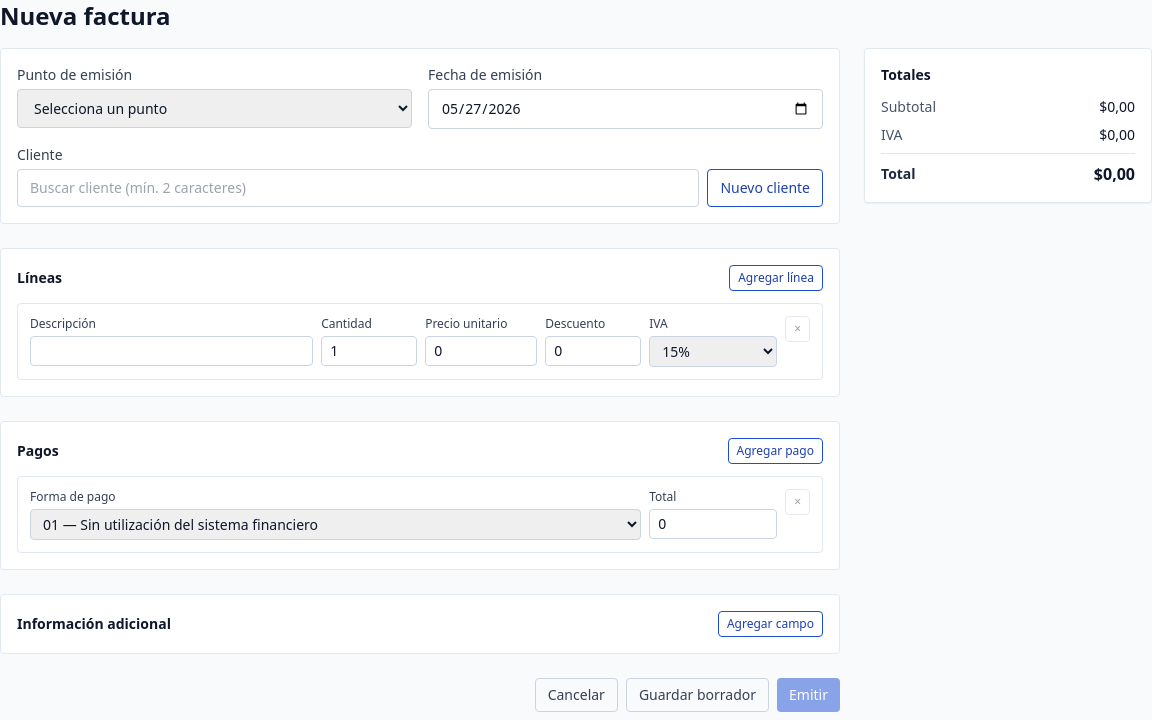
<InvoiceForm /> autosave + new customer dialog › NewCustomerDialog: creating a customer selects it in the form
The width and height of the screenshot is (1152, 720).
Expected: the element with test id "line-row-0" is shown, [17,303,823,380]
Click the button "Nuevo cliente" at (765, 188), box [707,169,823,207]
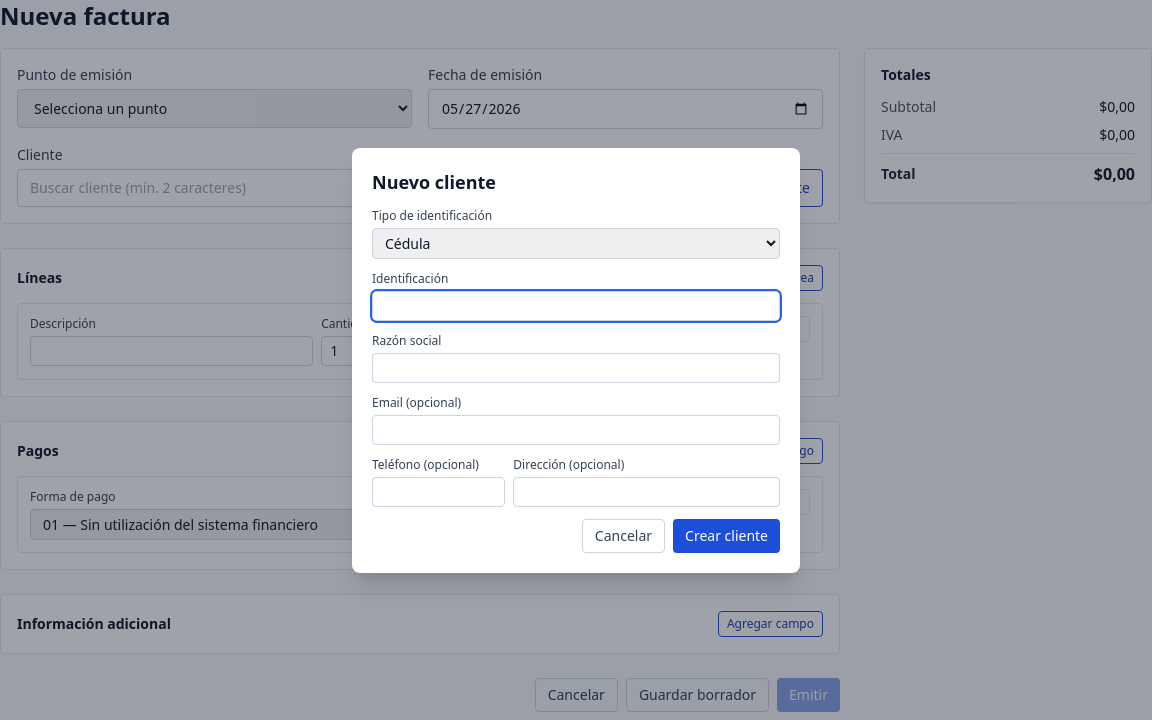
Result: the dialog with test id "new-customer-dialog" is shown
Type "1710034065" into the field labelled "Identificación" at (576, 306), box [372,290,780,320]
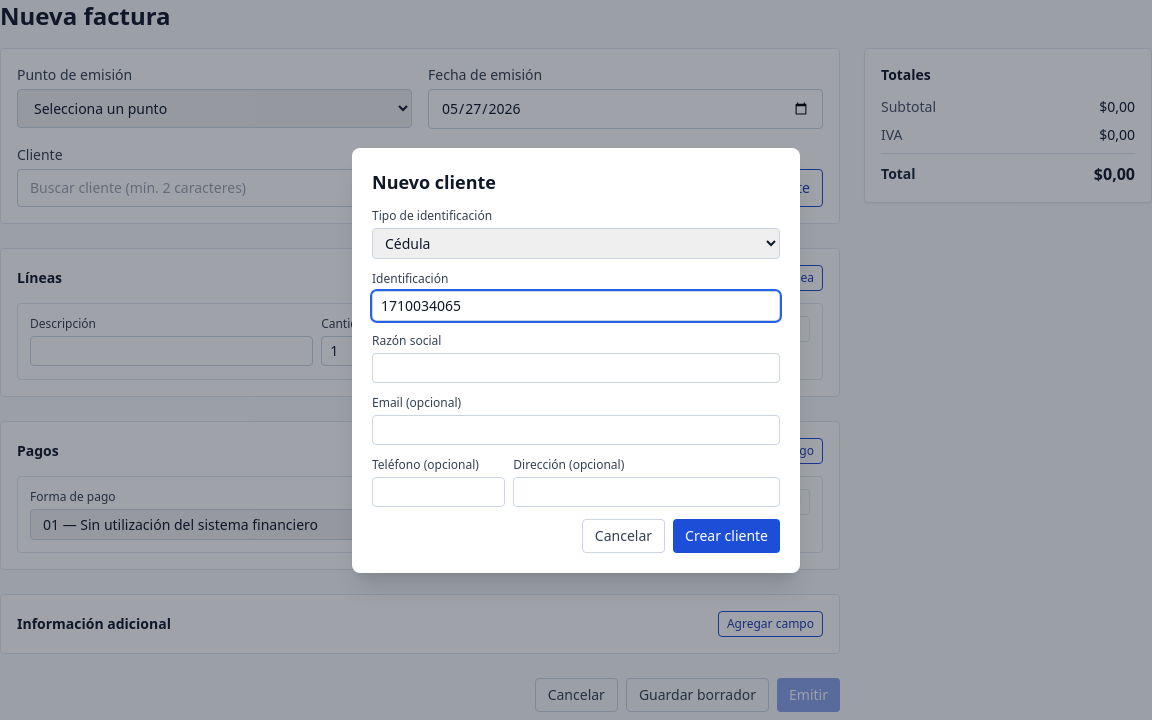
Type "Otra Persona" into the field labelled "Razón social" at (576, 368), box [372,352,780,382]
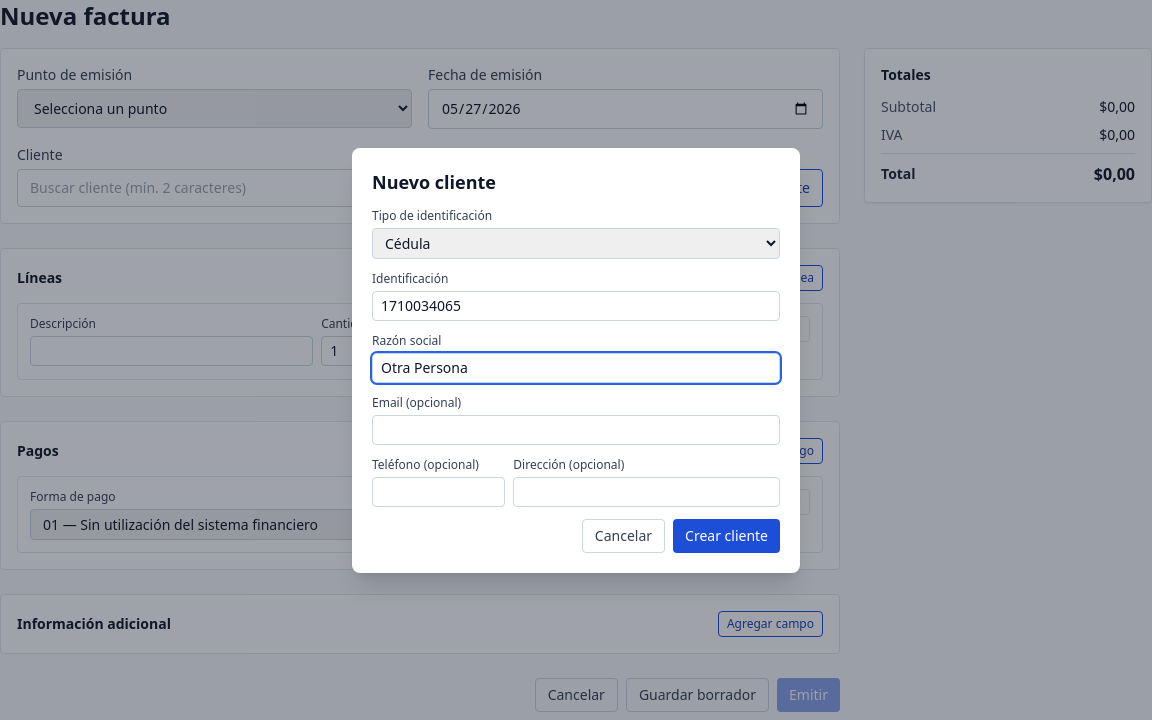
Click the button with test id "new-customer-submit" at (726, 536), box [673,518,780,552]
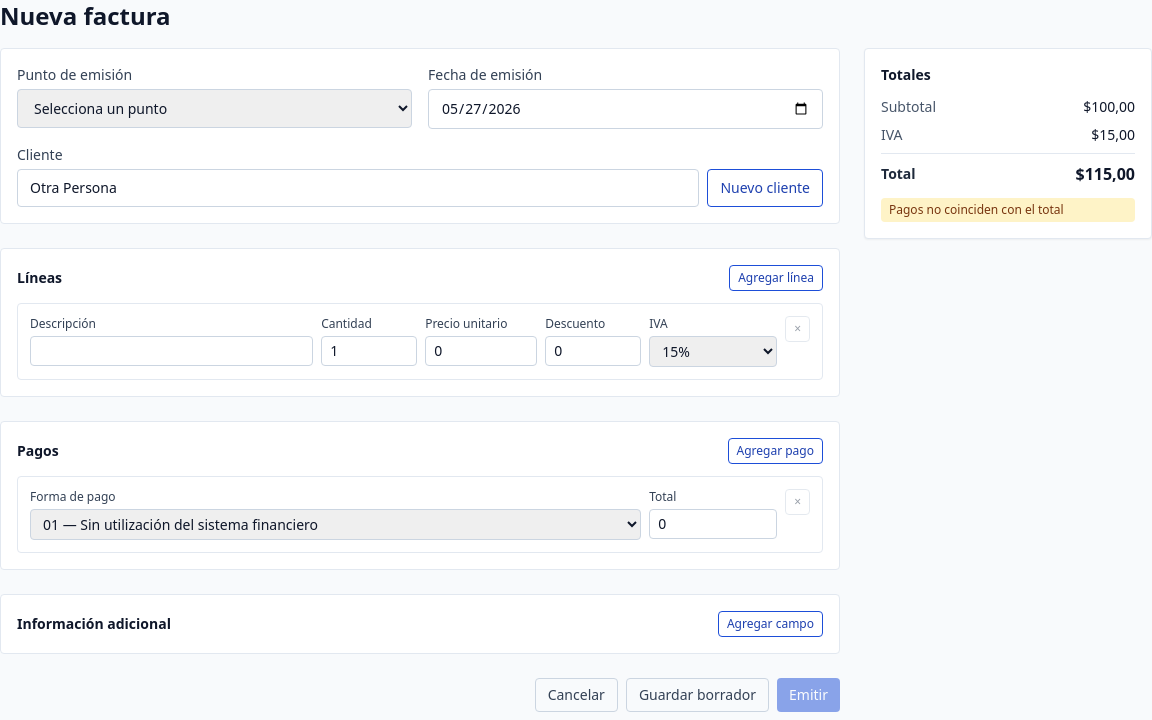
Result: the dialog with test id "new-customer-dialog" is gone
